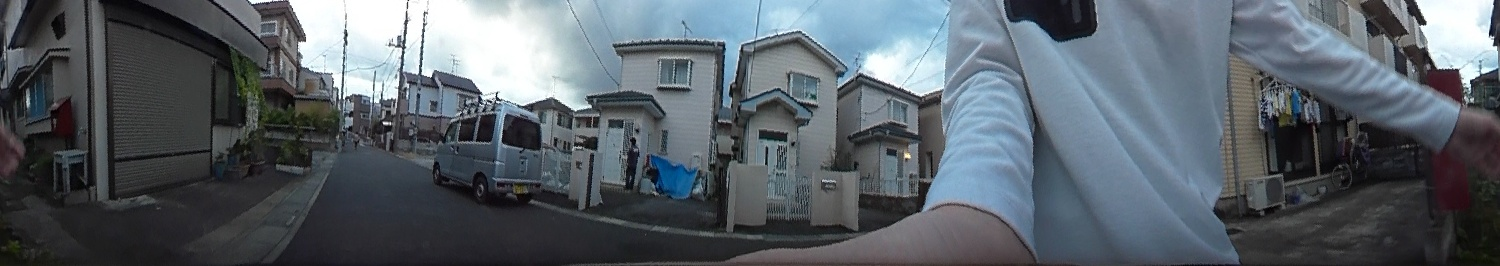difficult_person: (350, 129, 361, 150)
